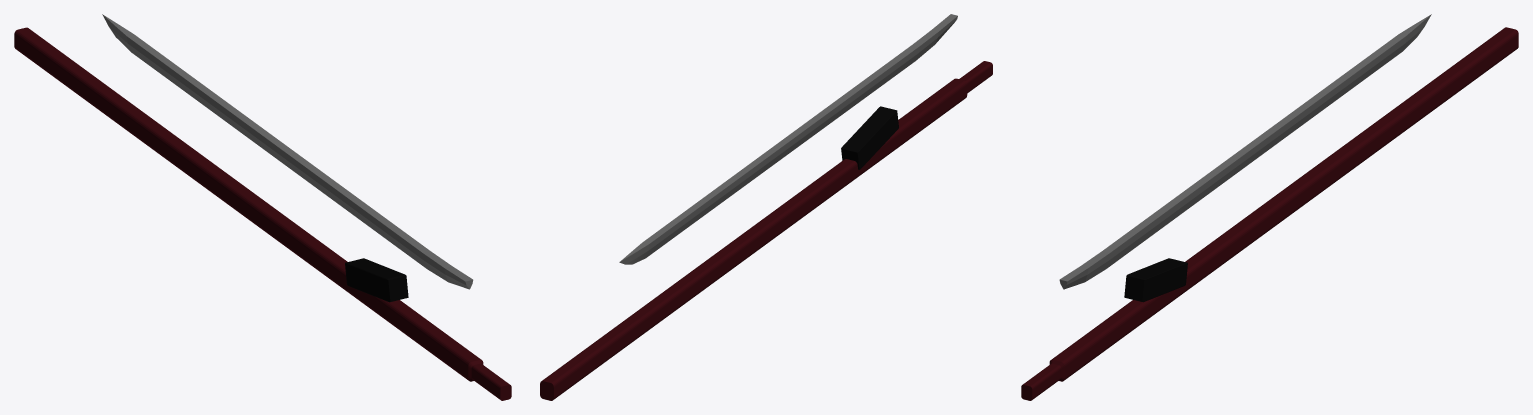
File: 大太刀_附_革鐔.glb
3 renders of one model, left to right at view 1: azimuth 30°, elevation 25°; view 2: azimuth 150°, elevation 25°; view 3: azimuth 330°, elevation 25°, orthographic. The views are drawn at different scales.
Parts seen in each view (by area): view 1: 立方体, 立方体.002, 立方体.001; view 2: 立方体, 立方体.002, 立方体.001; view 3: 立方体, 立方体.002, 立方体.001.
Part boxes in pixels (<box>): 立方体: <box>14,27,511,400</box>; 立方体.002: <box>102,14,473,289</box>; 立方体.001: <box>345,258,408,302</box>; 立方体: <box>540,61,992,400</box>; 立方体.002: <box>619,14,957,264</box>; 立方体.001: <box>841,106,898,169</box>; 立方体: <box>1021,27,1518,400</box>; 立方体.002: <box>1059,14,1431,289</box>; 立方体.001: <box>1124,258,1187,302</box>.
Bounding box in the file's own units: 0.1766 × 0.8399 × 7.73.
